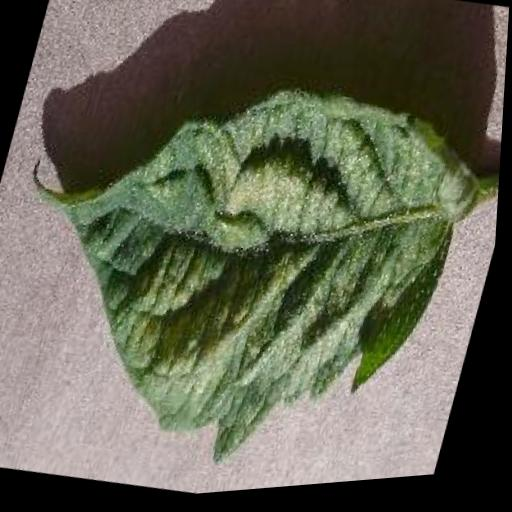Spider Mites: (0, 30, 502, 512)
